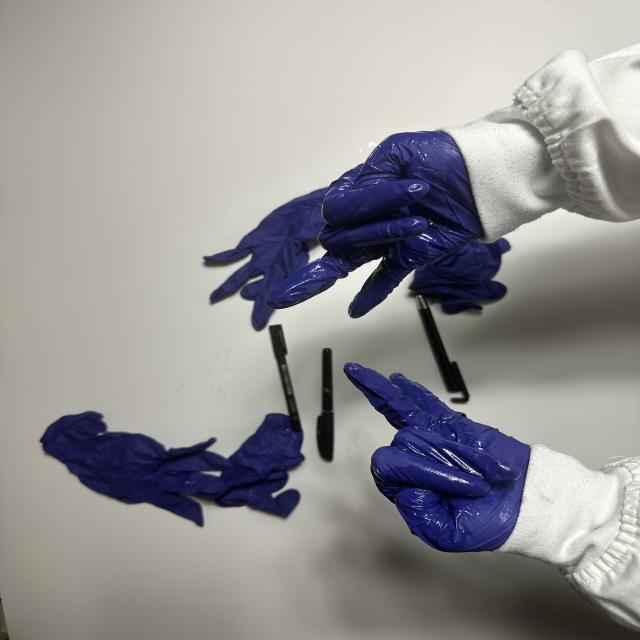gloves_contaminated: (267, 132, 483, 317), (344, 363, 533, 552)
